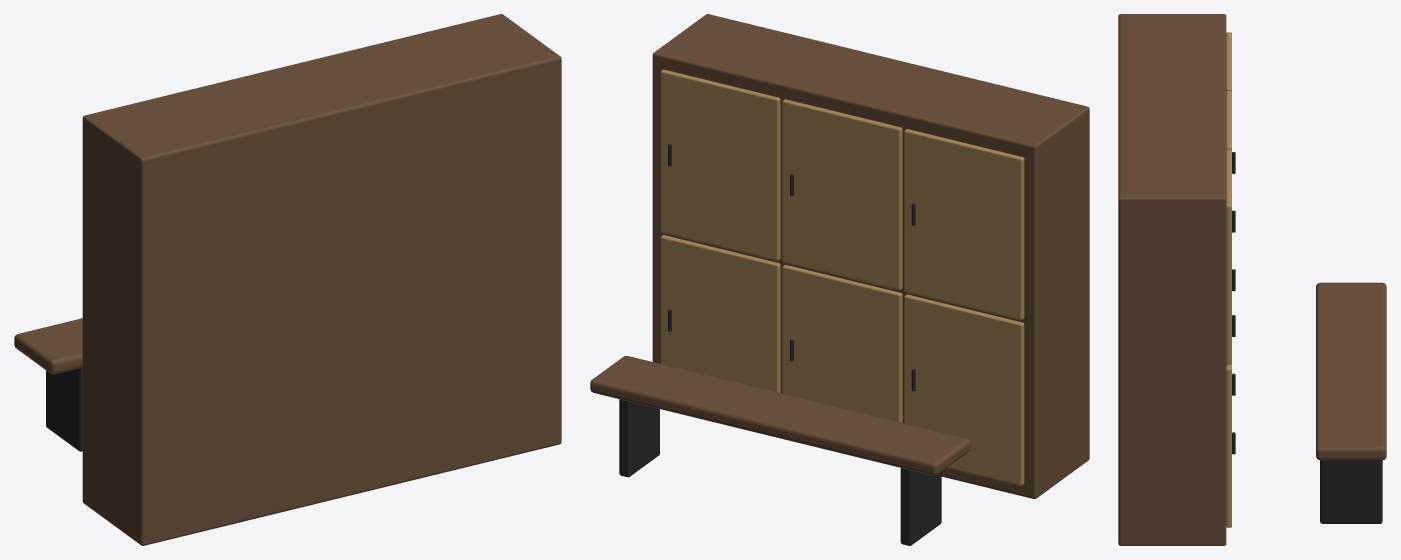
The model's file is locker-bank.glb.
3 views of the same model, side by side, from view 1: azimuth 30°, elevation 25°; view 2: azimuth 150°, elevation 25°; view 3: azimuth 270°, elevation 25° (orthographic). The views are drawn at different scales.
Parts seen in each view (by area): view 1: lkr_carcass, lkr_bench, lkr_leg_-1; view 2: lkr_carcass, lkr_door_3, lkr_door_5, lkr_door_4, lkr_door_0, lkr_bench, lkr_door_1, lkr_door_2, lkr_leg_-1, lkr_leg_1; view 3: lkr_carcass, lkr_bench, lkr_leg_1, lkr_door_5, lkr_door_2, lkr_door_3, lkr_door_4.
Boxes of the visible parts, x1,y1,x2,y2 form: lkr_carcass: [82, 14, 561, 545]; lkr_bench: [14, 318, 82, 374]; lkr_leg_-1: [46, 368, 82, 451]; lkr_carcass: [652, 14, 1089, 499]; lkr_door_3: [904, 129, 1024, 319]; lkr_door_5: [660, 69, 780, 260]; lkr_door_4: [782, 99, 902, 290]; lkr_door_0: [904, 294, 1024, 485]; lkr_bench: [590, 356, 970, 475]; lkr_door_1: [782, 265, 902, 422]; lkr_door_2: [660, 235, 780, 392]; lkr_leg_-1: [900, 468, 941, 545]; lkr_leg_1: [619, 399, 659, 477]; lkr_carcass: [1118, 14, 1226, 545]; lkr_bench: [1316, 282, 1386, 460]; lkr_leg_1: [1320, 460, 1382, 523]; lkr_door_5: [1226, 149, 1231, 364]; lkr_door_2: [1226, 364, 1231, 527]; lkr_door_3: [1226, 32, 1231, 91]; lkr_door_4: [1226, 91, 1231, 149].
Size of the model in its own units: 2.1 by 1.85 by 1.29.
